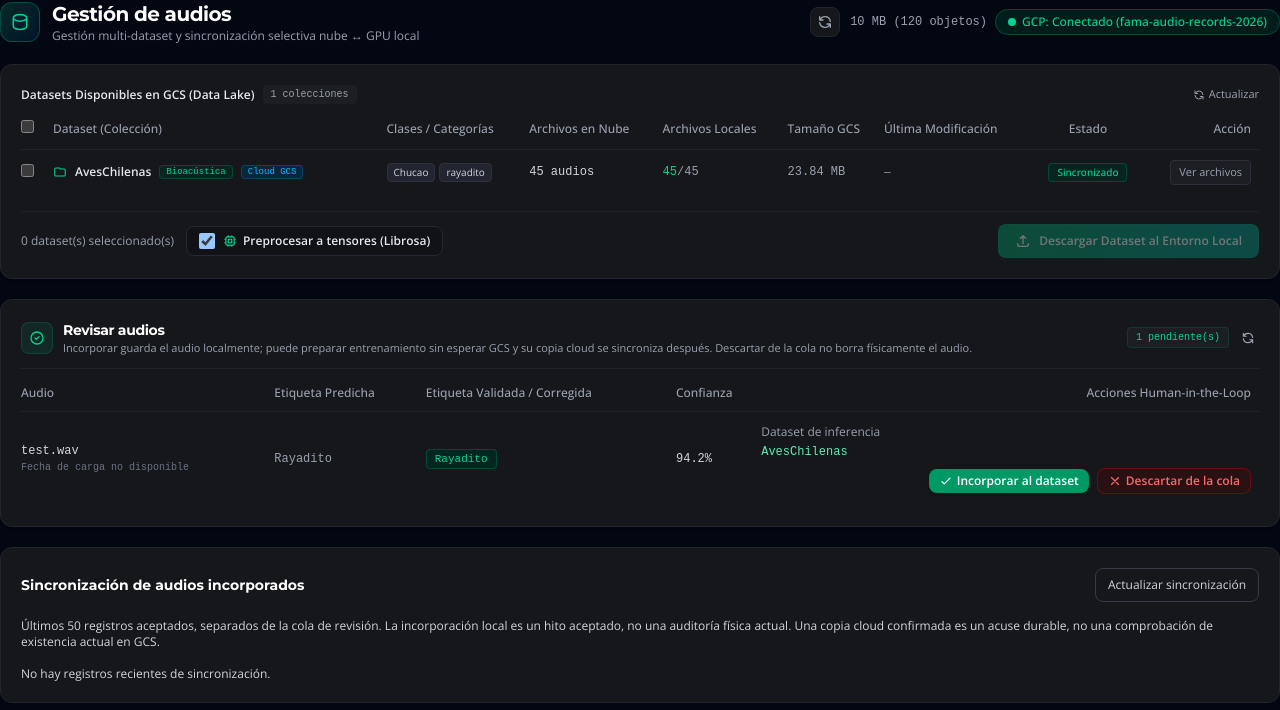
Test: IngestionView persisted inference dataset and curation › shows pending snapshot automatically without selector and approves Rayadito despite lowercase directory catalog
The width and height of the screenshot is (1280, 710).
Expected: the text "Dataset de inferencia" is shown, [761,423,880,440]
Expected: the text "AvesChilenas" below "Dataset de inferencia" is shown, [761,445,848,459]
What coordinates should you click on to do the following:
click the button "Incorporar al dataset"
I would click on:
 (1009, 481)
Its box is [929,469,1089,493].
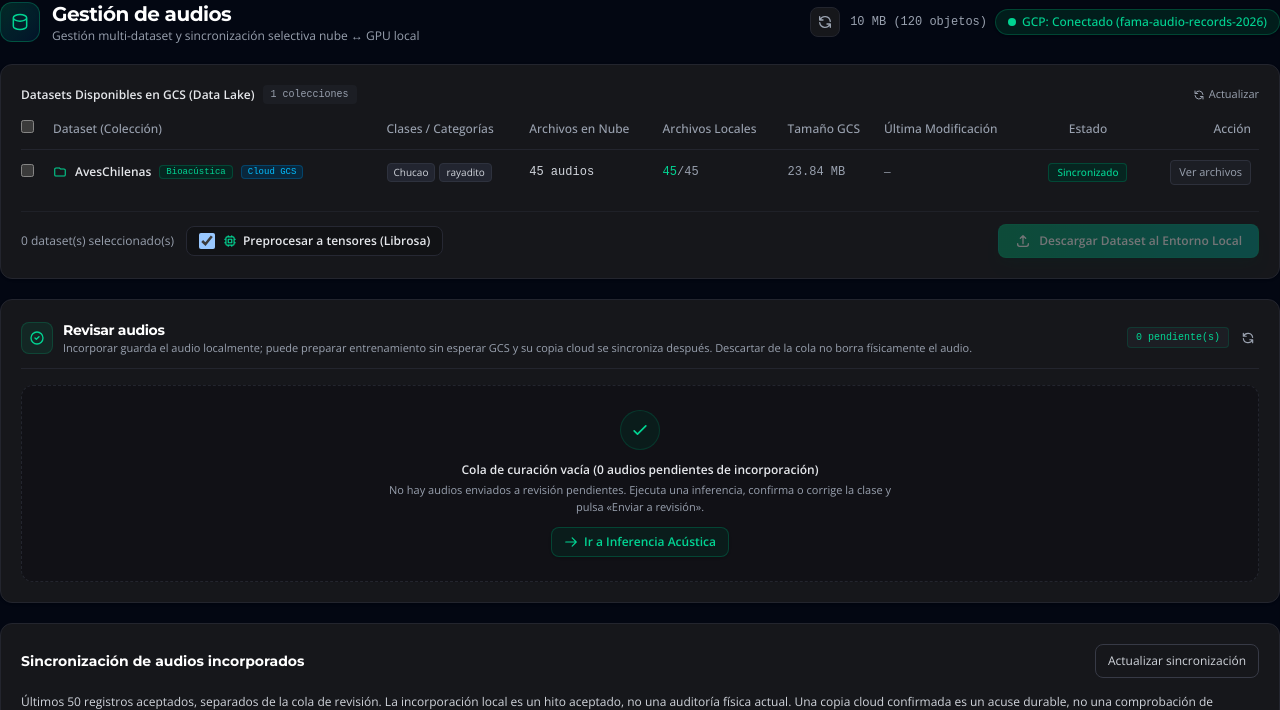
Result: the message with test id "curation-queue-empty" is shown at [21,385,1259,582]
